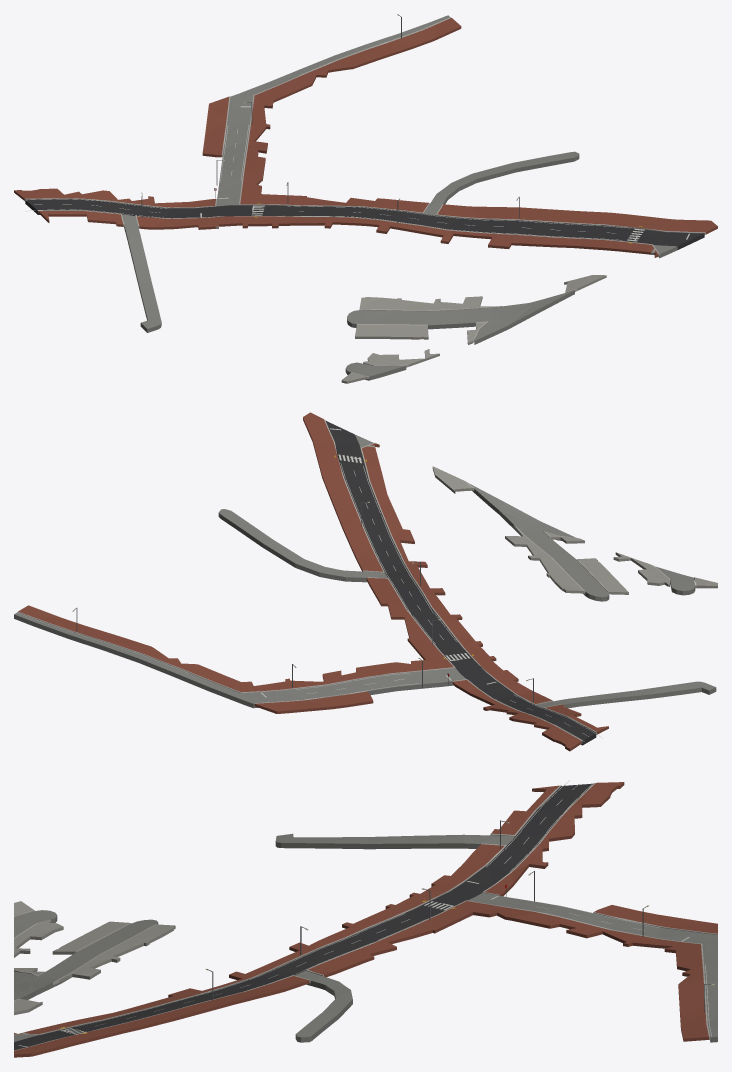
3 views of the same model, one above another, from view 1: azimuth 30°, elevation 25°; view 2: azimuth 150°, elevation 25°; view 3: azimuth 270°, elevation 25° (orthographic). The views are drawn at different scales.
Bounding box in the file's own units: 150 × 29.16 × 146.
